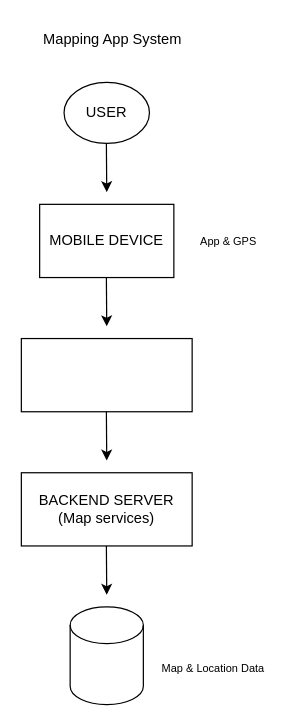
Some shapes in this 305 by 726 pixel diagram are drawn without their labels. The shapes that lost their labels are listed below. From the top down, each one's box as (x1, y1, x2, y2) in pixels, then its label:
(20, 337, 192, 412): INTERNET/NETWORK
(69, 606, 143, 705): DB
